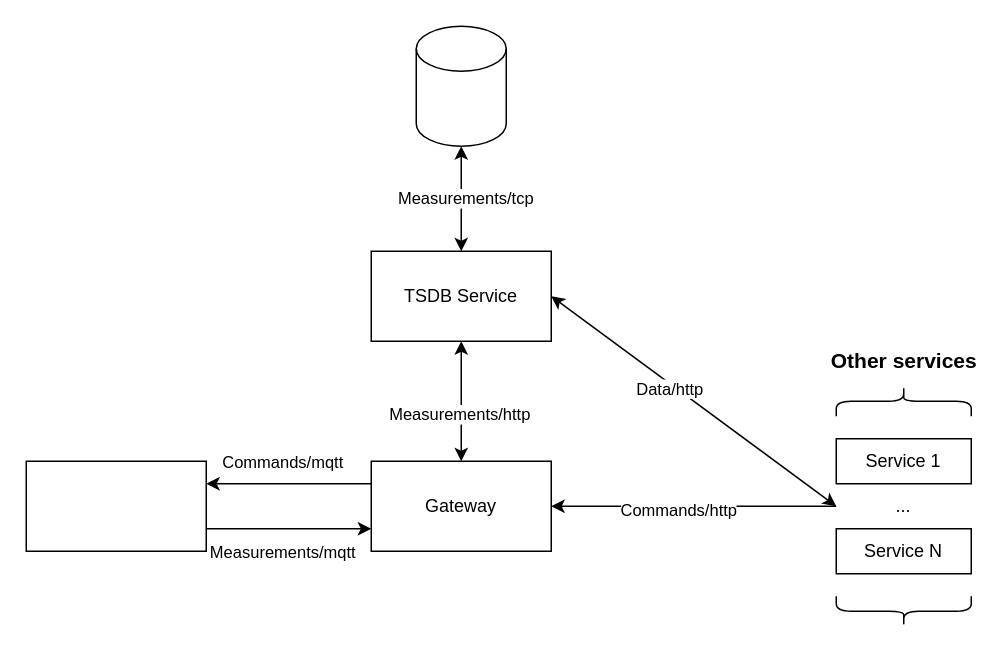
Some shapes in this 1005 by 653 pixel diagram are drawn without their labels. The shapes that lost their labels are listed below. From the top down, each one's centre as x and y in pixels, then its label:
(x=460, y=85): TSDB
(x=115, y=505): Matlab Model
